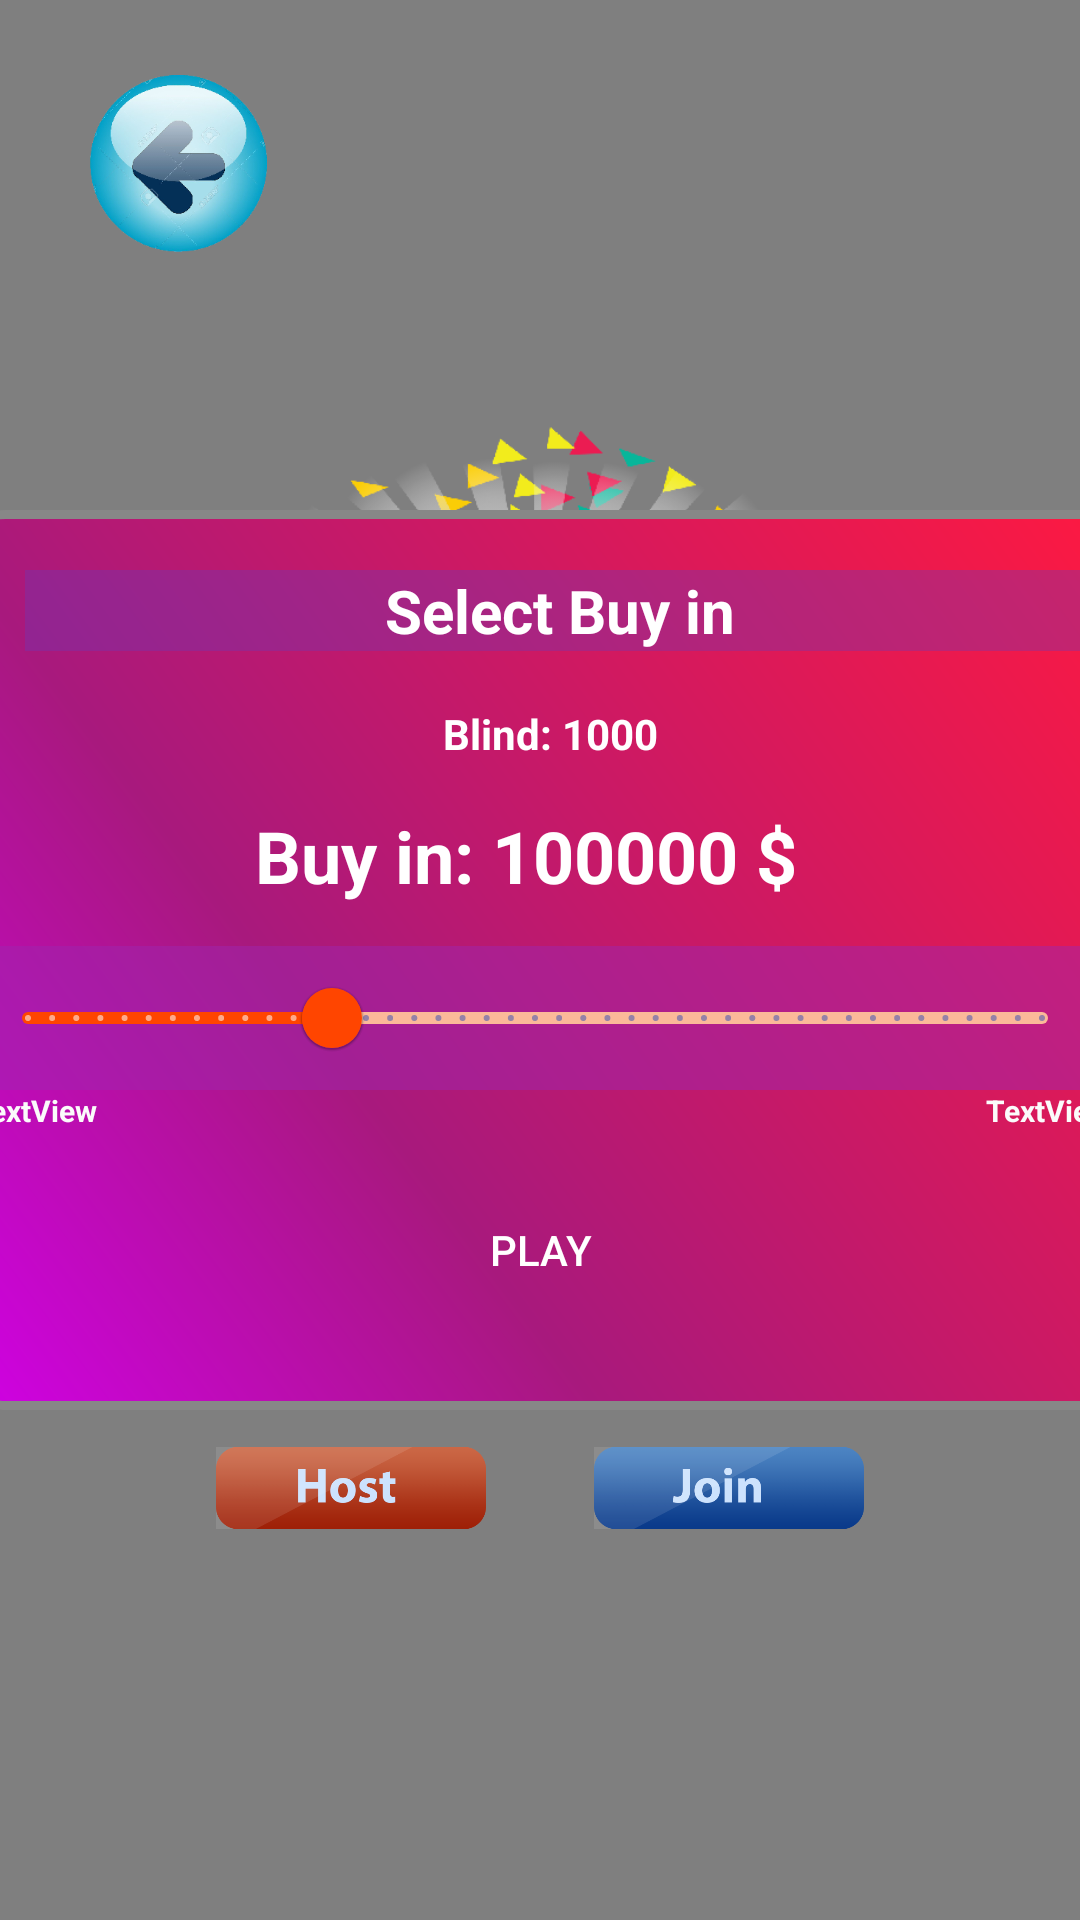

Screen size 1080*1920. Icon name, then its center in pixels as (x,y):
btnback: (178,163)
